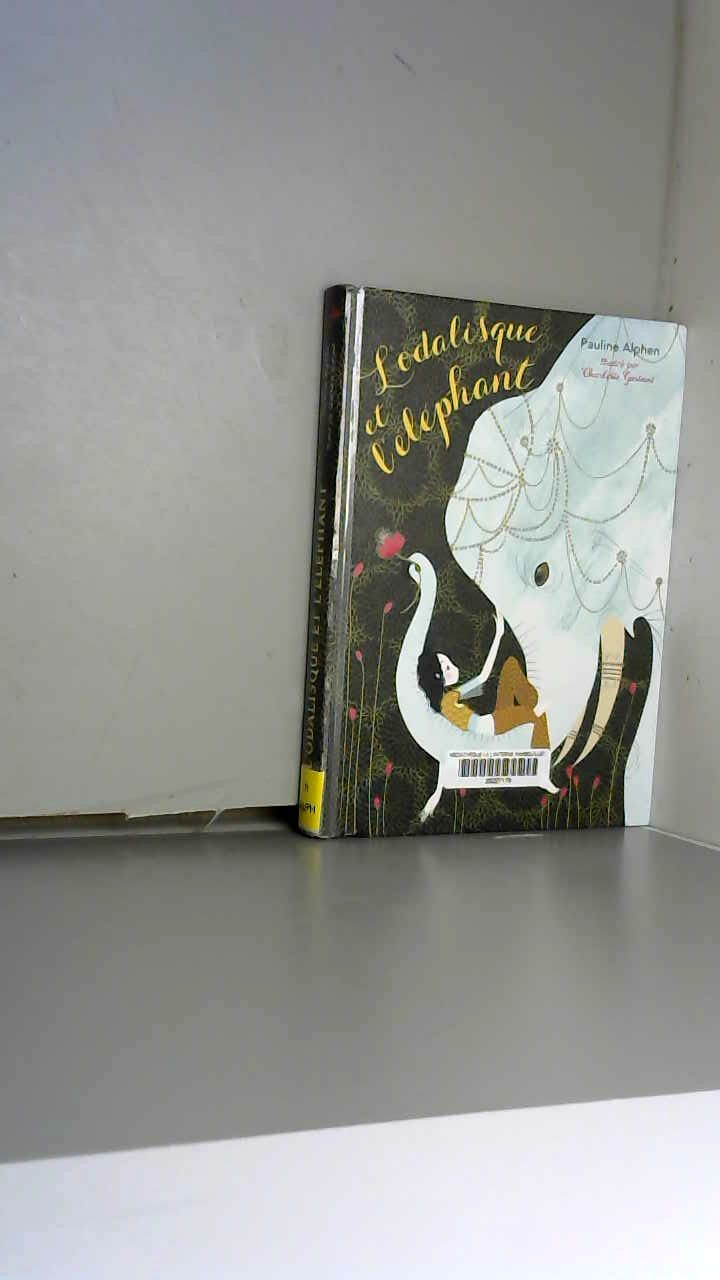book: (270, 260, 715, 898)
